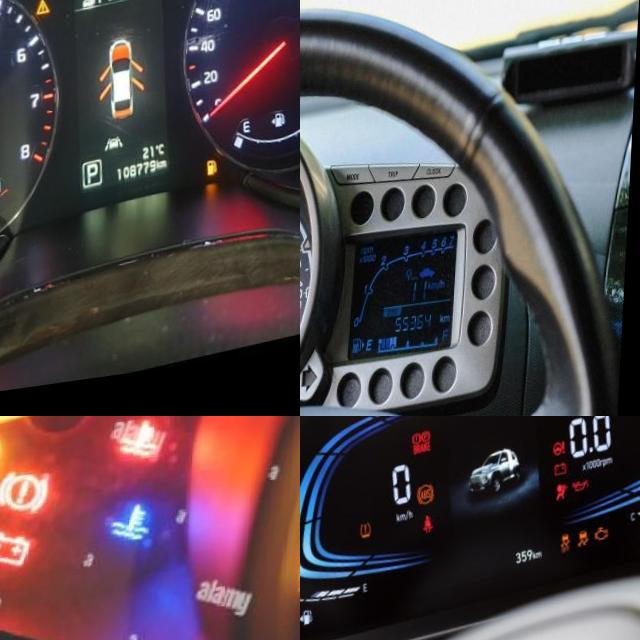Central Warning lamp: (37, 1, 52, 22)
Engine cooling system: (112, 498, 162, 553), (120, 416, 170, 468)
Low fuel level: (209, 169, 221, 188)
